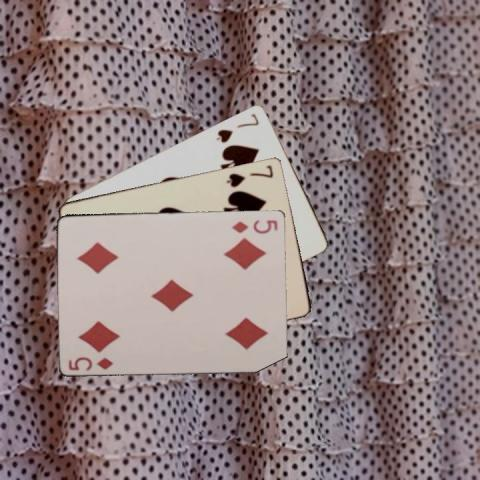5d: (229, 216, 279, 234), (66, 354, 115, 372)
7s: (213, 110, 261, 144), (223, 162, 275, 189)
